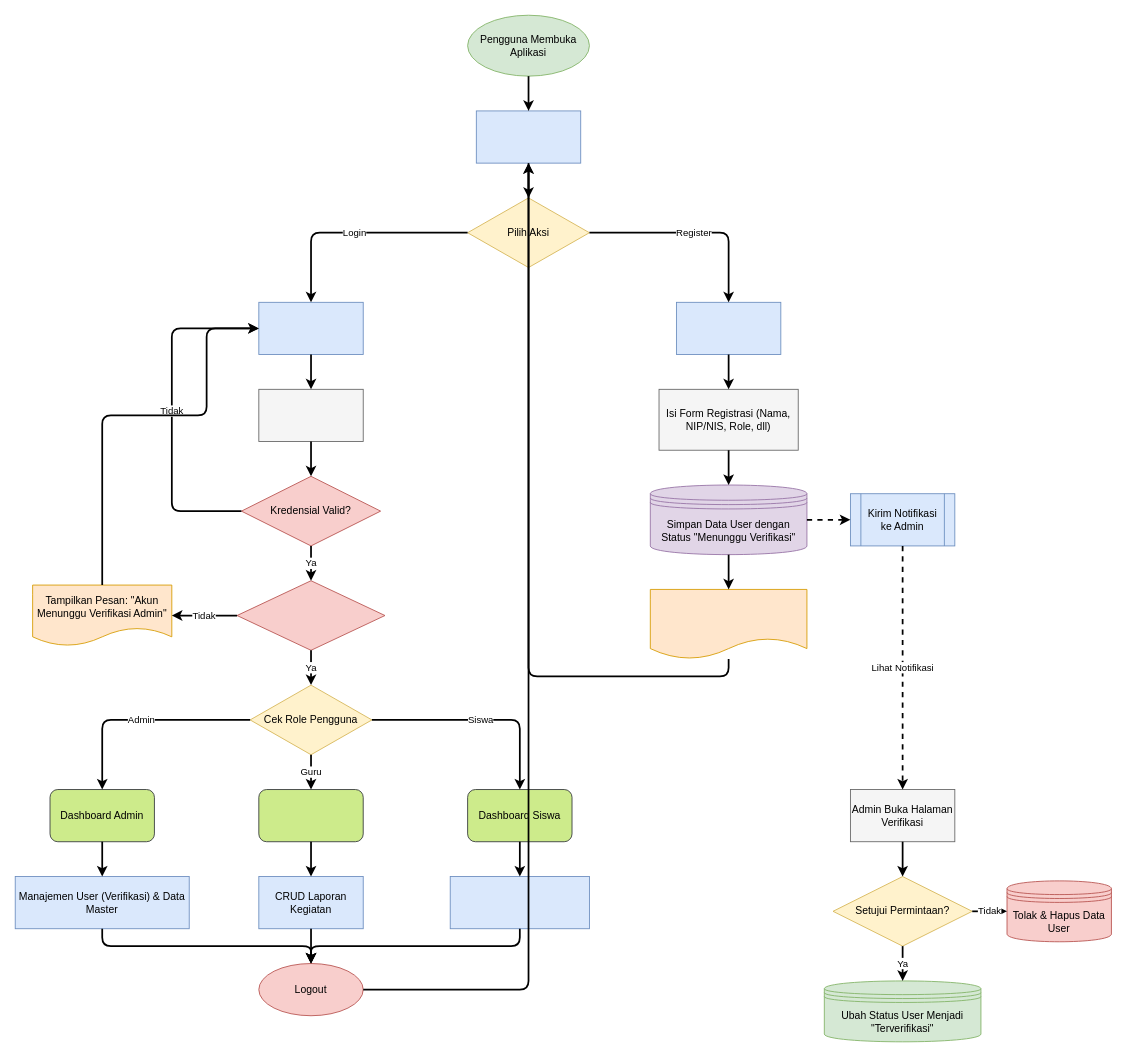
This 1127x1057 diagram has some shape labels left out. Each missing label, with the centre of its shape:
Akun Terverifikasi?: point 310,615
Dashboard Guru: point 310,815
Halaman Awal: point 528,136
Halaman Login: point 310,328
Halaman Registrasi: point 728,328
Lihat Agenda Kegiatan Kelas: point 519,902
Proses Otentikasi: point 310,415
Tampilkan Pesan: "Registrasi Berhasil. Tunggu Verifikasi Admin.": point 728,624
